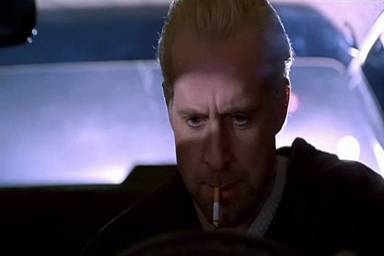cu: (1, 1, 384, 256)
face: (171, 68, 272, 229)
person: (79, 1, 384, 256)
